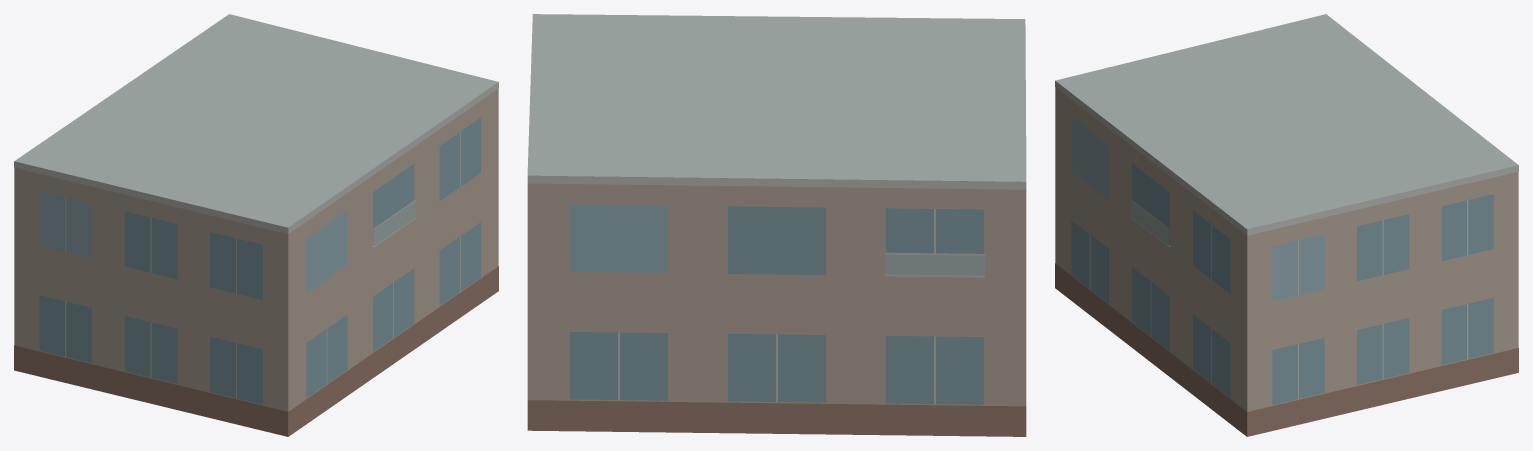
File: survey-upis-32838382.glb
3 views of the same model, side by side, from view 1: azimuth 30°, elevation 25°; view 2: azimuth 150°, elevation 25°; view 3: azimuth 270°, elevation 25° (orthographic). The views are drawn at different scales.
Parts seen in each view (by area): view 1: survey-upis-32838382.tmp; view 2: survey-upis-32838382.tmp; view 3: survey-upis-32838382.tmp.
Boxes of the visible parts, x1,y1,x2,y2 form: survey-upis-32838382.tmp: [14, 14, 498, 436]; survey-upis-32838382.tmp: [527, 14, 1026, 436]; survey-upis-32838382.tmp: [1055, 14, 1518, 436].
Size of the model in its own units: 17.59 by 7.9 by 16.01.
